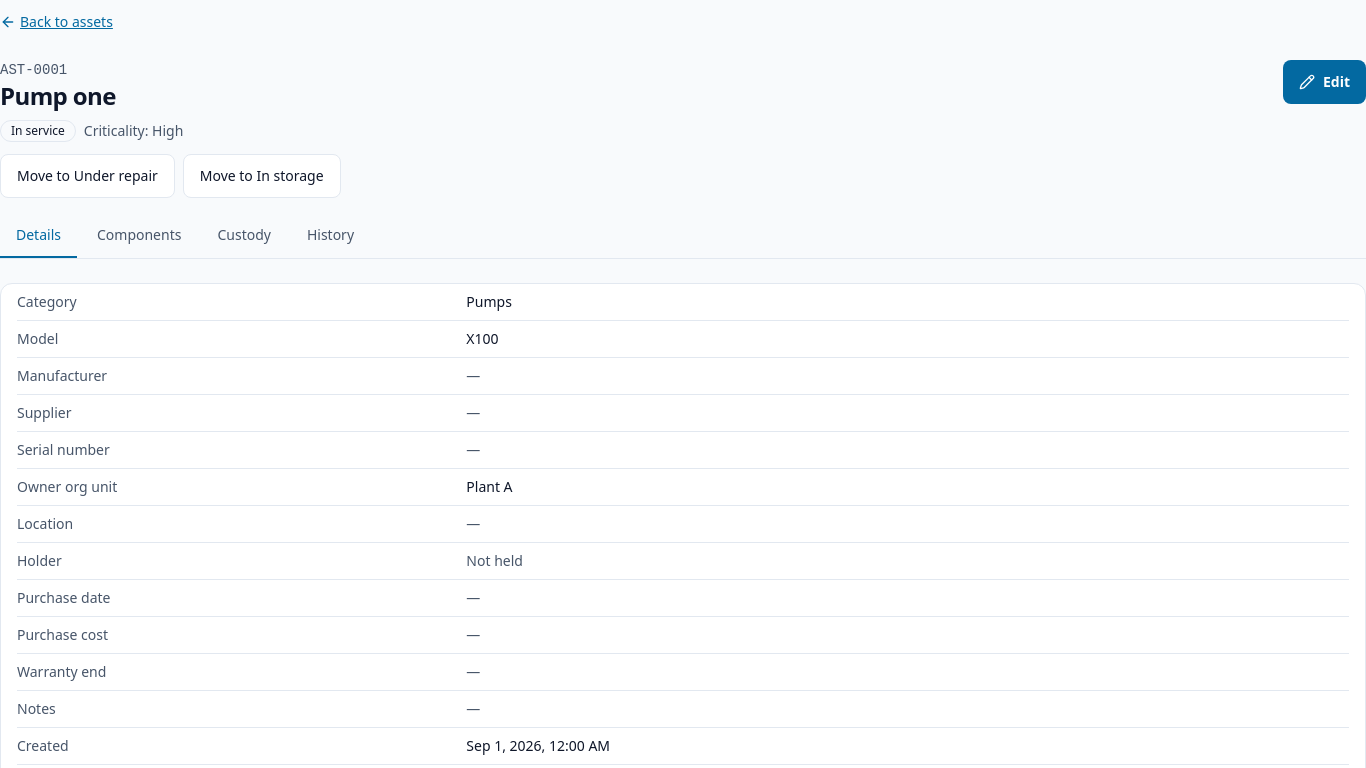
Test: components tab › lists components, attaches a found asset and detaches after a confirmation
Click the tab "Components" at (139,236), box left=81, top=214, right=198, bottom=258
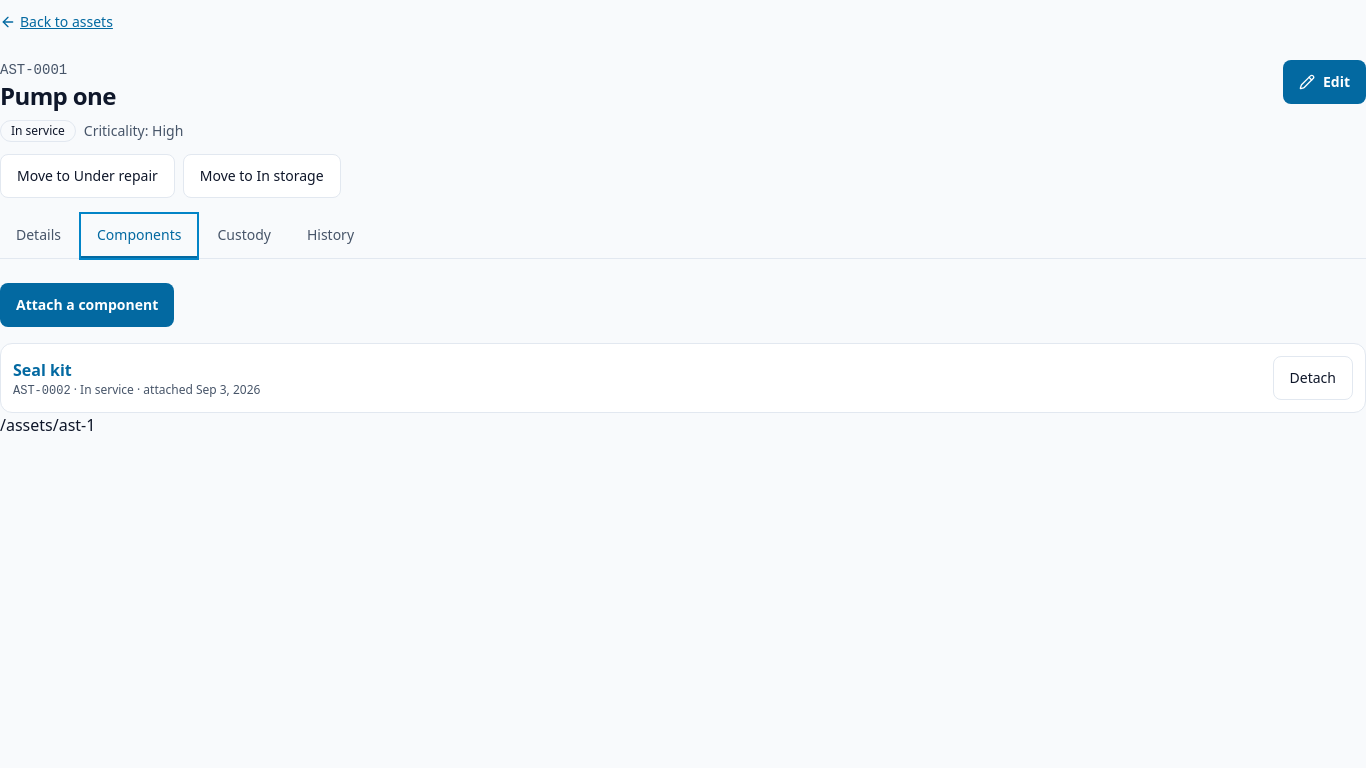
Now the link "Seal kit" is shown, box left=13, top=358, right=72, bottom=380
Click the button "Attach a component" at (87,305), box left=0, top=283, right=174, bottom=327
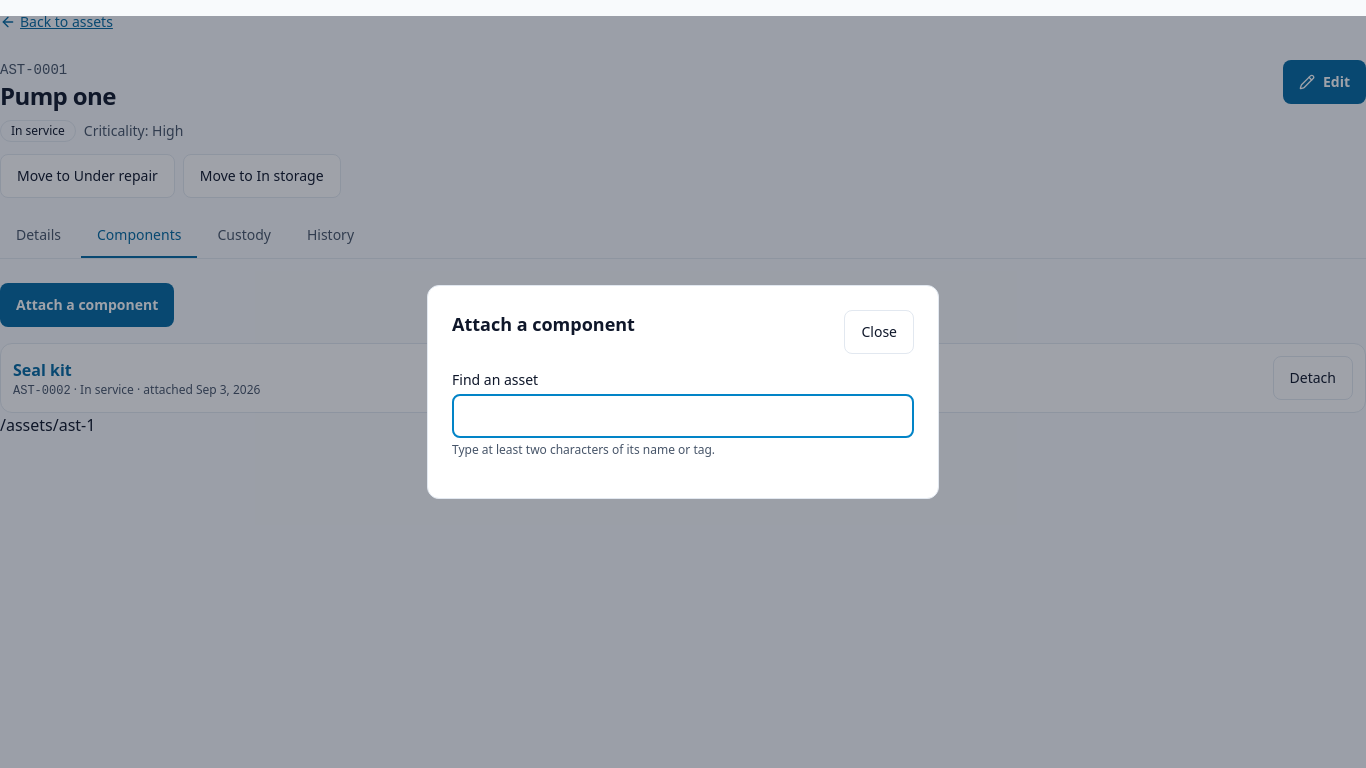
Type "gasket" into the search field labelled "Find an asset" at (683,416), box left=452, top=394, right=914, bottom=438
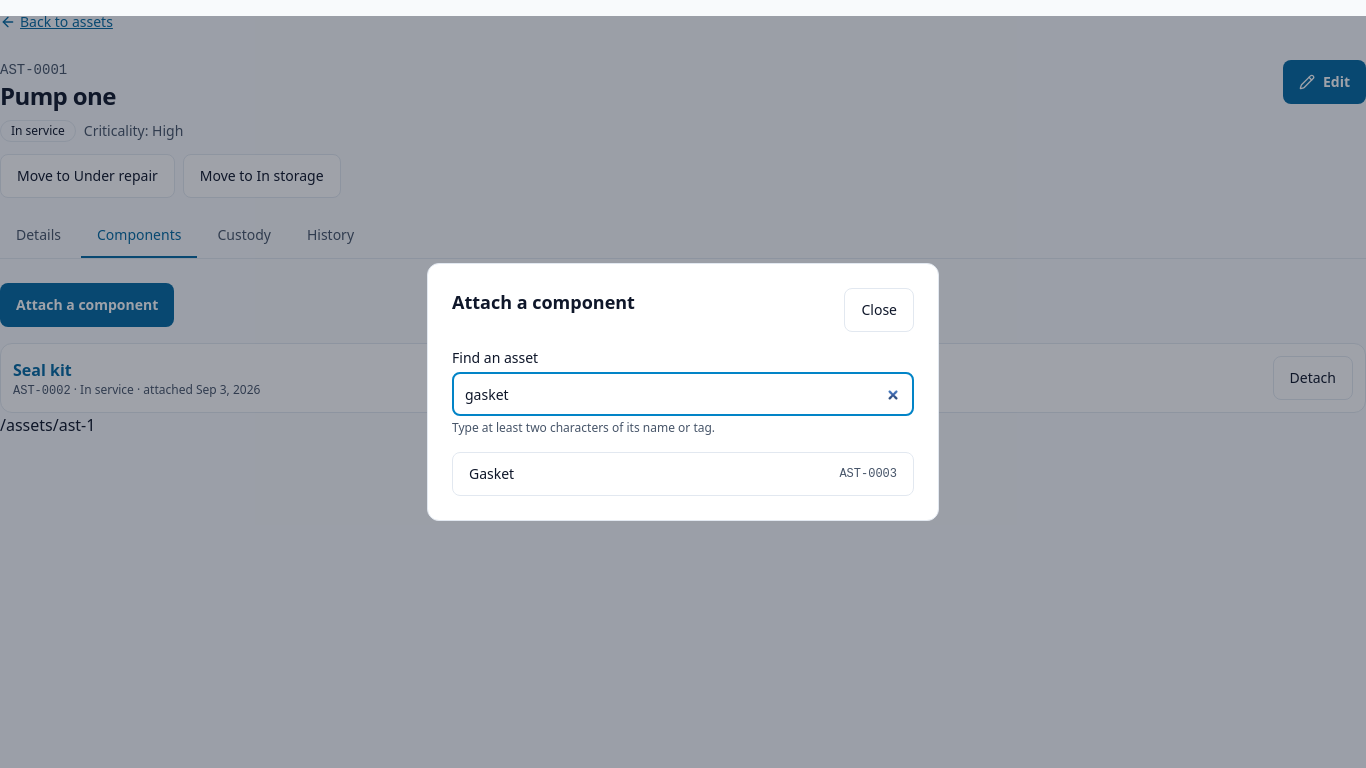
Click the button "Gasket AST-0003" at (492,474), box left=452, top=452, right=914, bottom=496
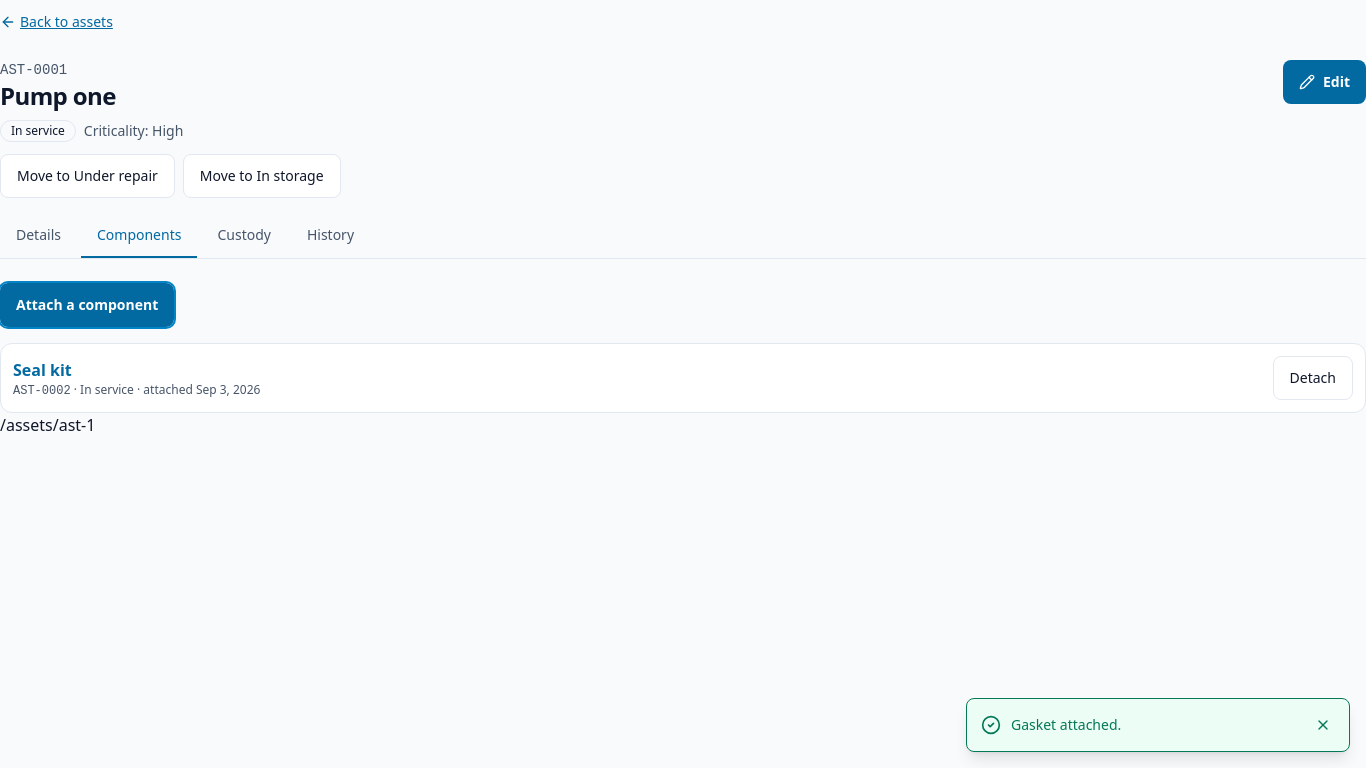
Click the button "Detach" at (1313,378), box left=1273, top=356, right=1353, bottom=400
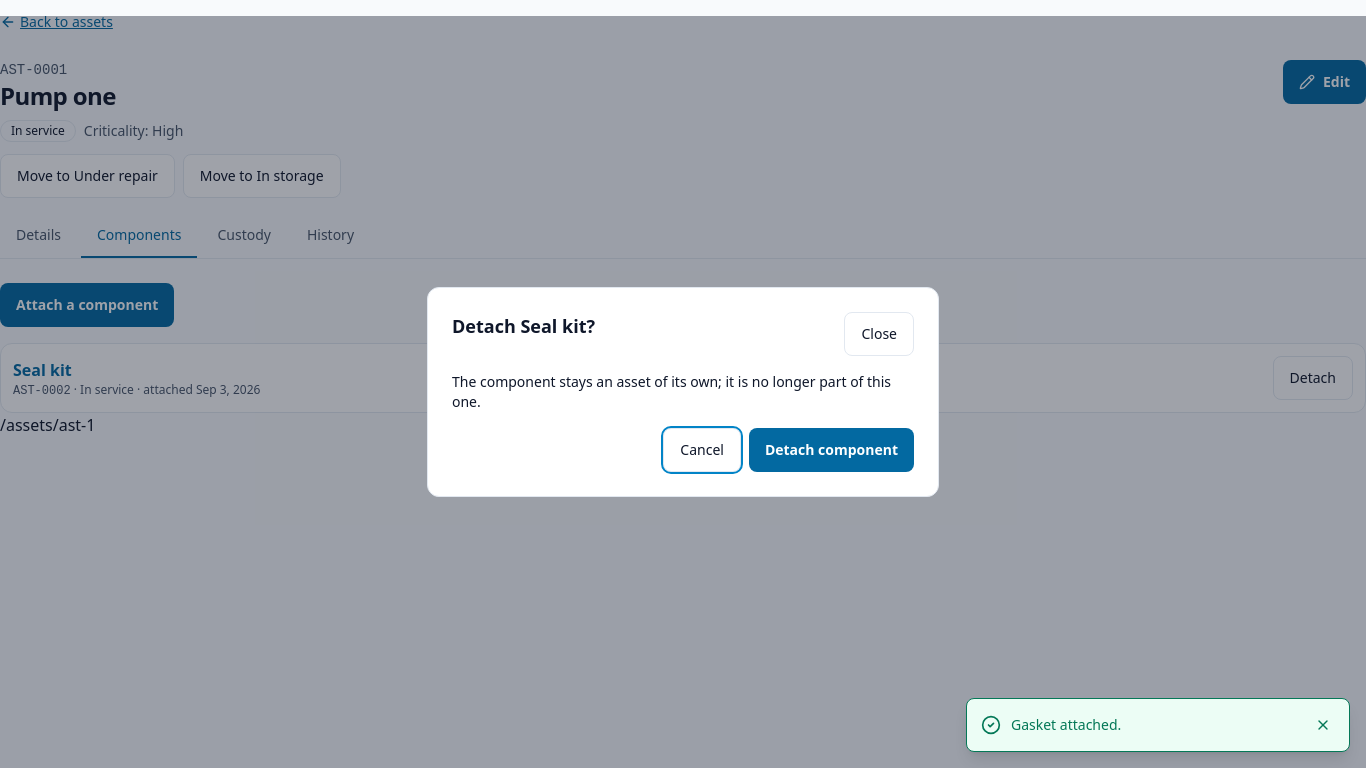
Click the button "Detach component" at (831,450), box left=749, top=428, right=914, bottom=472
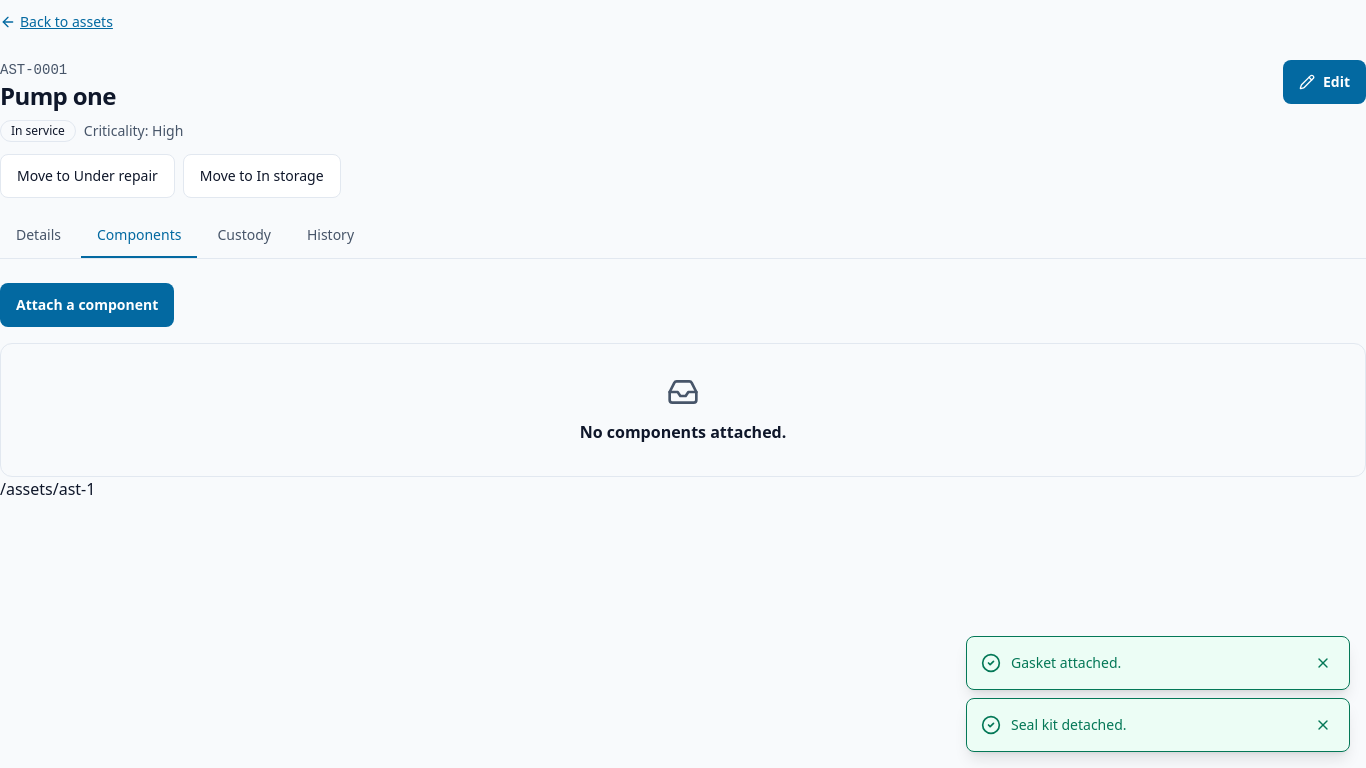
Now the text "No components attached." is shown, box left=580, top=420, right=786, bottom=444
